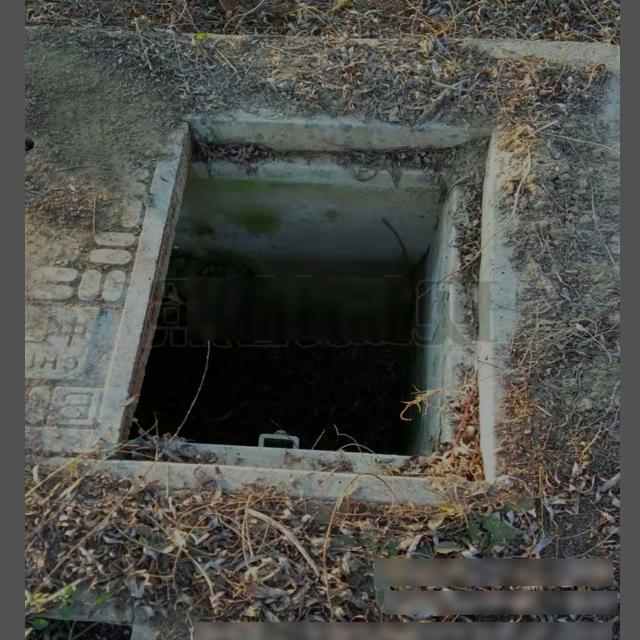lose: (94, 108, 516, 501)
